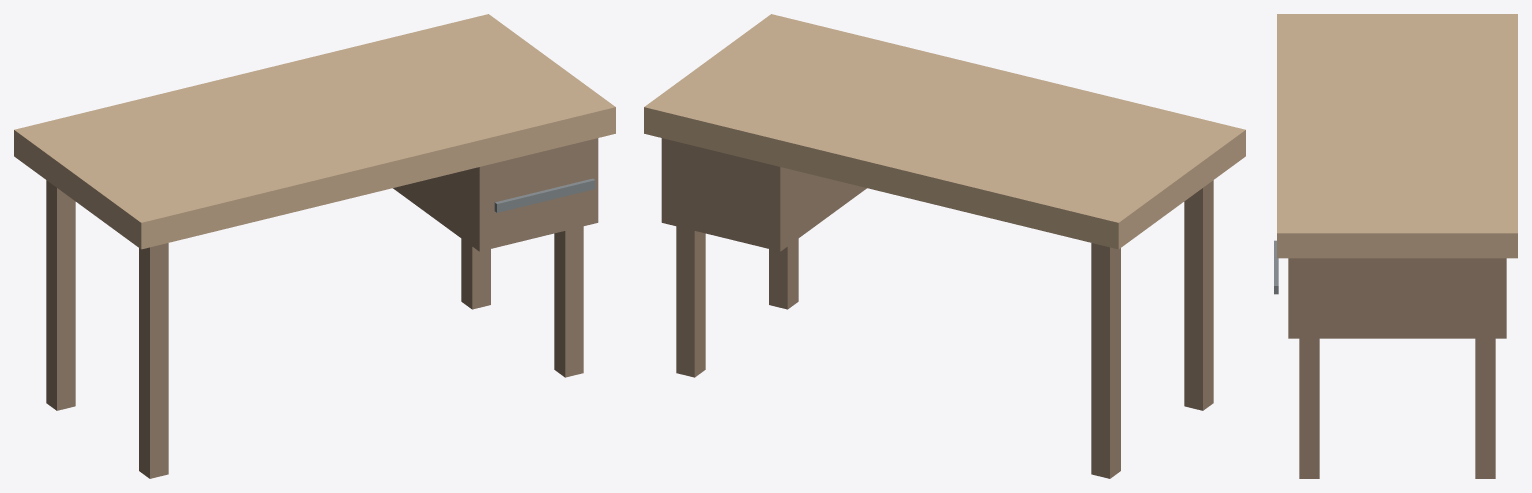
Rendered from desk.glb.
3 renders of one model, left to right at view 1: azimuth 30°, elevation 25°; view 2: azimuth 150°, elevation 25°; view 3: azimuth 270°, elevation 25°, orthographic. The views are drawn at different scales.
Parts seen in each view (by area): view 1: Writing Desk; view 2: Writing Desk; view 3: Writing Desk.
Boxes of the visible parts, x1,y1,x2,y2 form: Writing Desk: (14, 14, 615, 478); Writing Desk: (644, 14, 1245, 478); Writing Desk: (1274, 14, 1517, 478).
Size of the model in its own units: 1.4 by 0.76 by 0.658.
